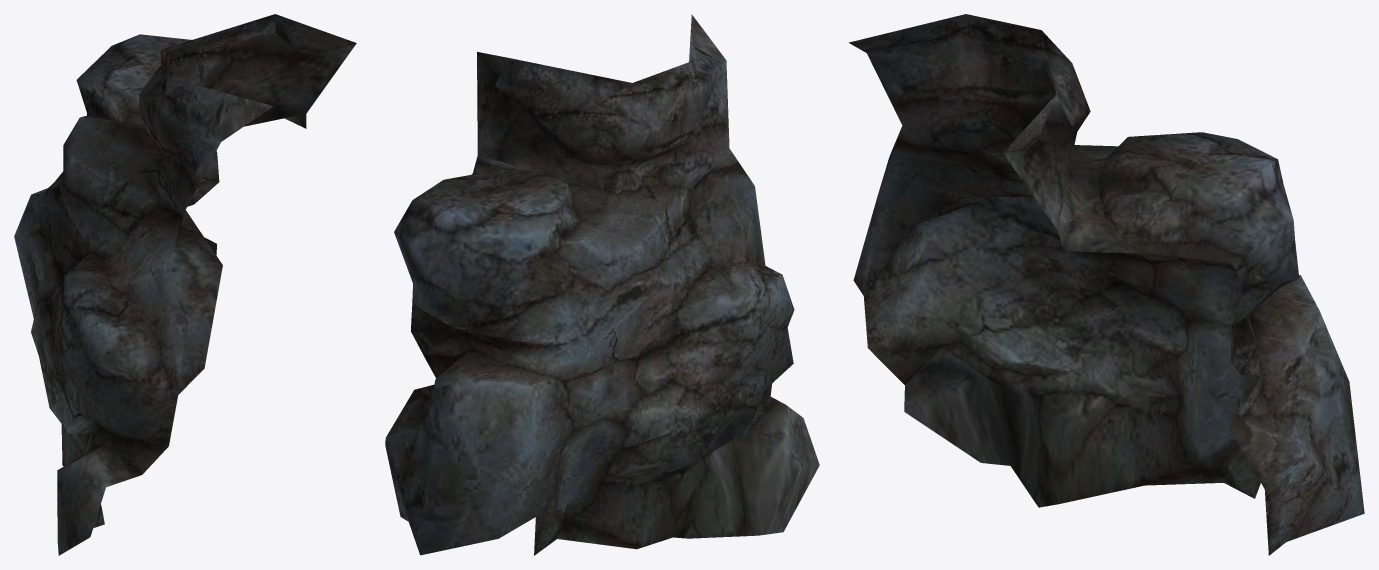
Rendered from S_Rock_Yellow034_H37.FBX.
The picture shows the model from 3 angles, left to right: view 1: azimuth 30°, elevation 25°; view 2: azimuth 150°, elevation 25°; view 3: azimuth 270°, elevation 25°; orthographic projection. The views are drawn at different scales.
Parts seen in each view (by area): view 1: S_Rock_Yellow034_H37; view 2: S_Rock_Yellow034_H37; view 3: S_Rock_Yellow034_H37.
Boxes of the visible parts, <box> form: S_Rock_Yellow034_H37: <box>14,14,356,555</box>; S_Rock_Yellow034_H37: <box>385,14,819,555</box>; S_Rock_Yellow034_H37: <box>849,14,1364,555</box>.
Bounding box in the file's own units: 813 × 1037 × 1133.
Materials: 1 (1 with a texture image).
